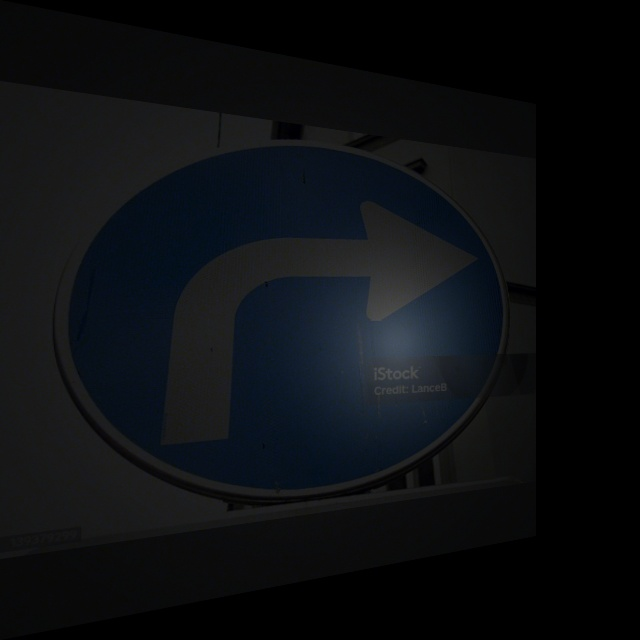Compulsory_Turn_Right_Ahead: (68, 110, 499, 510)
